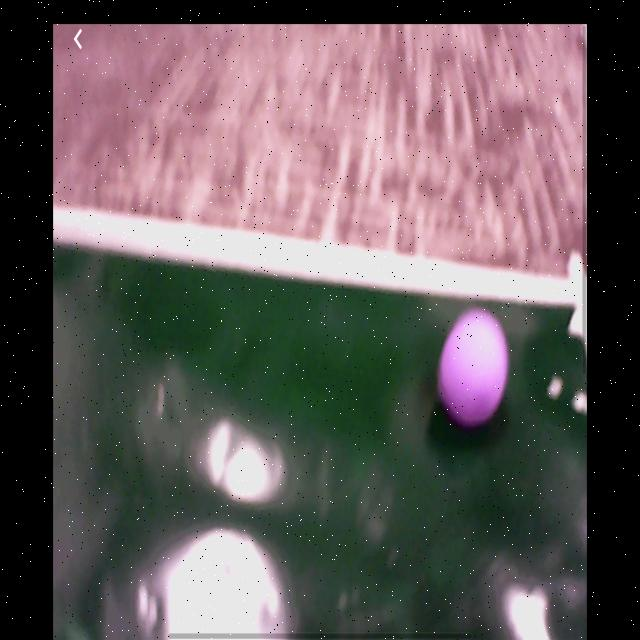ball: (437, 307, 511, 430)
